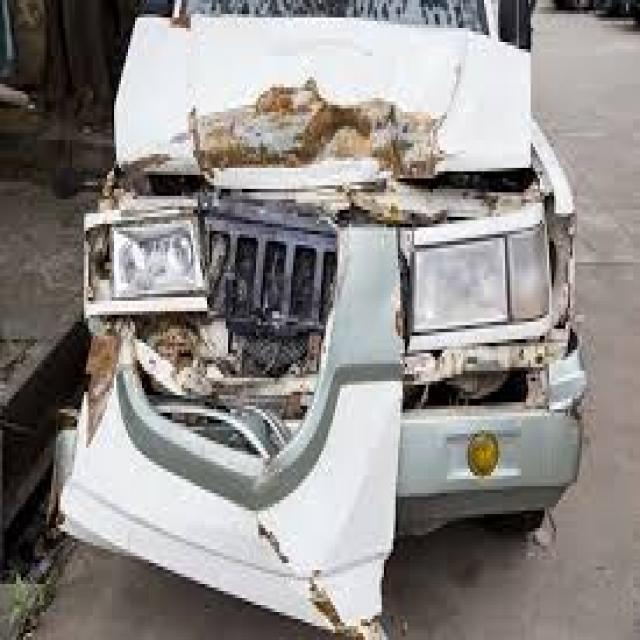severe: (40, 47, 576, 618)
